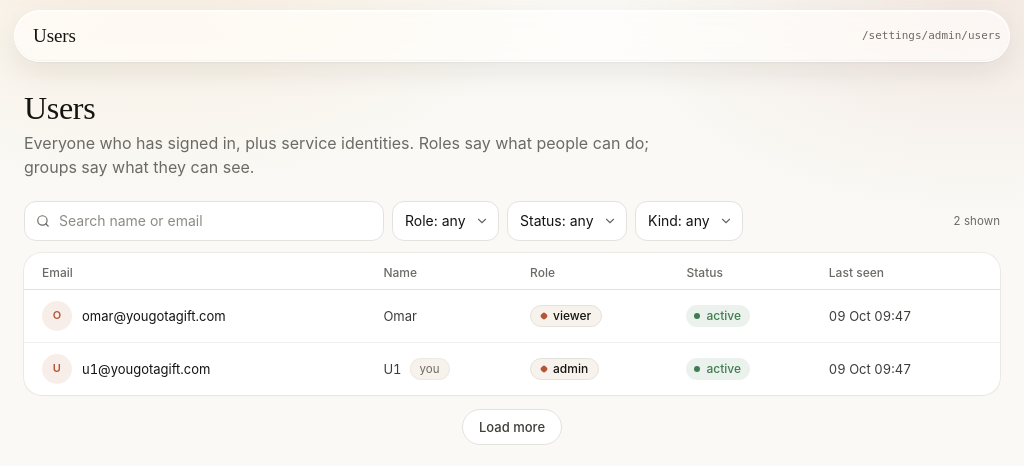
UsersPage › "Load more" follows the cursor and appends
Click the button "Load more" at [512, 427], box [462,409,562,445]
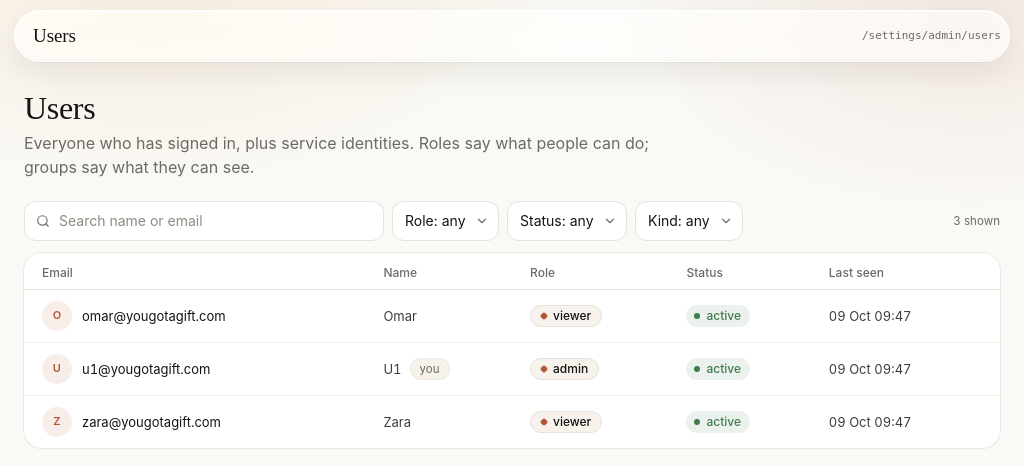
Expected: the text "zara@yougotagift.com" is shown, [82,413,221,431]
Expected: the button "Load more" is gone
